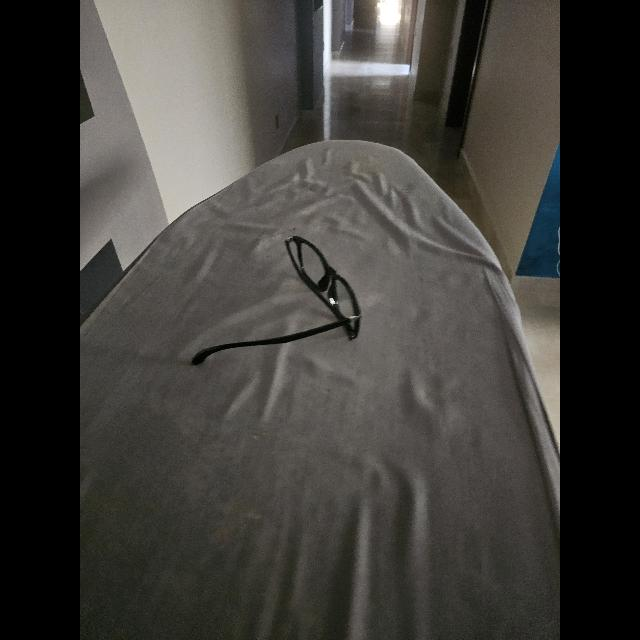glasses: (191, 236, 361, 364)
